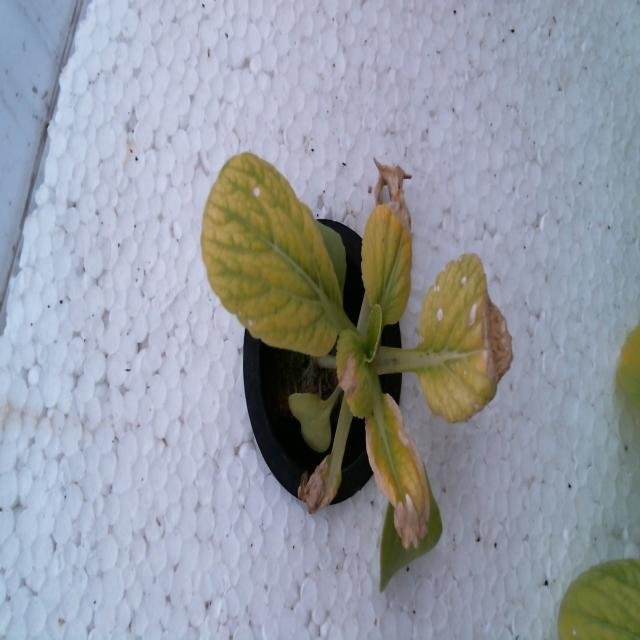pakcoy_tidak_sehat: (185, 66, 528, 599)
